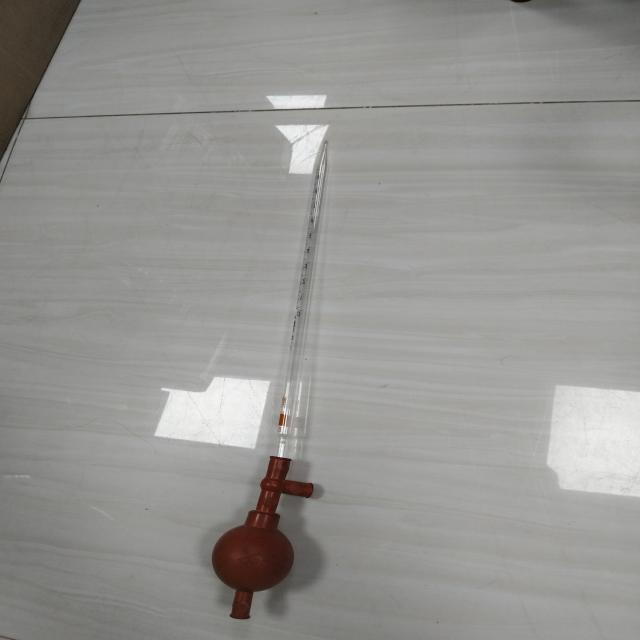Volumetric_Pipet: (182, 115, 376, 640)
